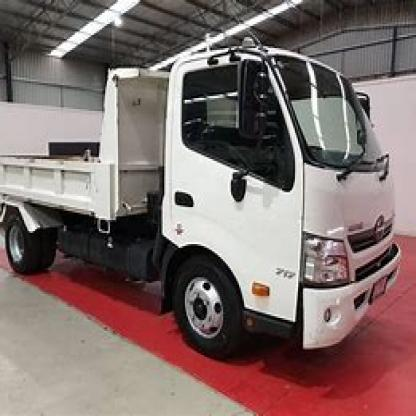dump_truck: (6, 37, 398, 370)
